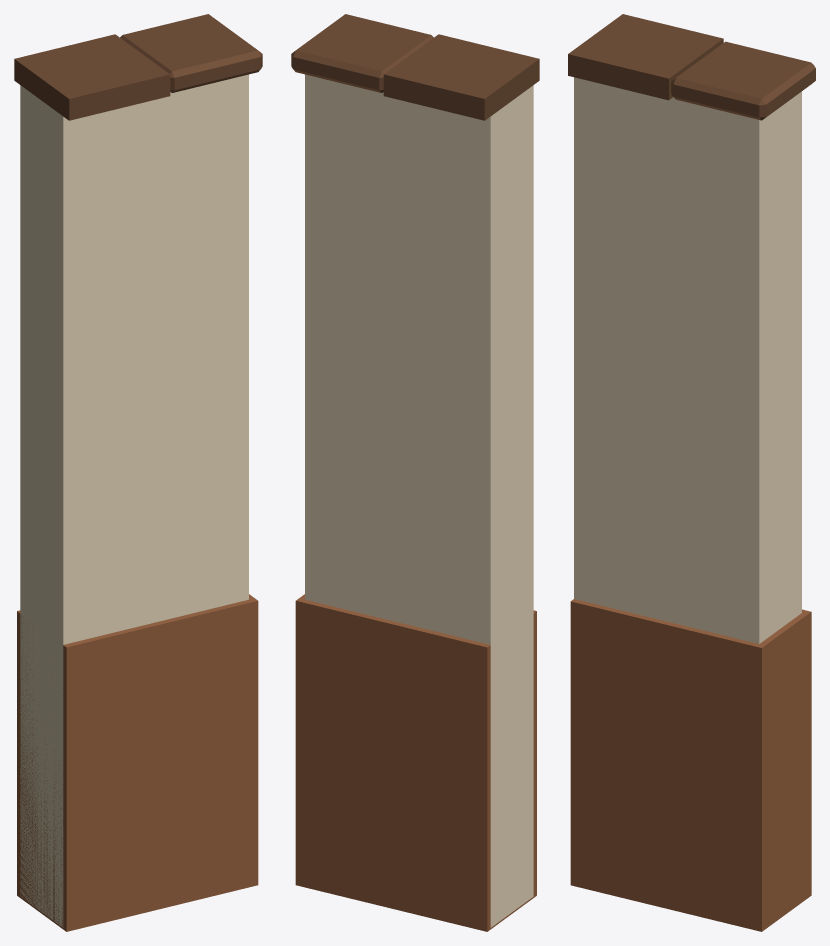
Rendered from wall_end.glb.
The picture shows the model from 3 angles, left to right: view 1: azimuth 30°, elevation 25°; view 2: azimuth 150°, elevation 25°; view 3: azimuth 330°, elevation 25°; orthographic projection.
Parts seen in each view (by area): view 1: wall_end; view 2: wall_end; view 3: wall_end.
Boxes of the visible parts, box(x1,y1,x2,y2) form: wall_end: box(14, 14, 262, 931); wall_end: box(291, 14, 539, 931); wall_end: box(568, 14, 815, 931).
Size of the model in its own units: 0.66 by 2.69 by 0.32.
